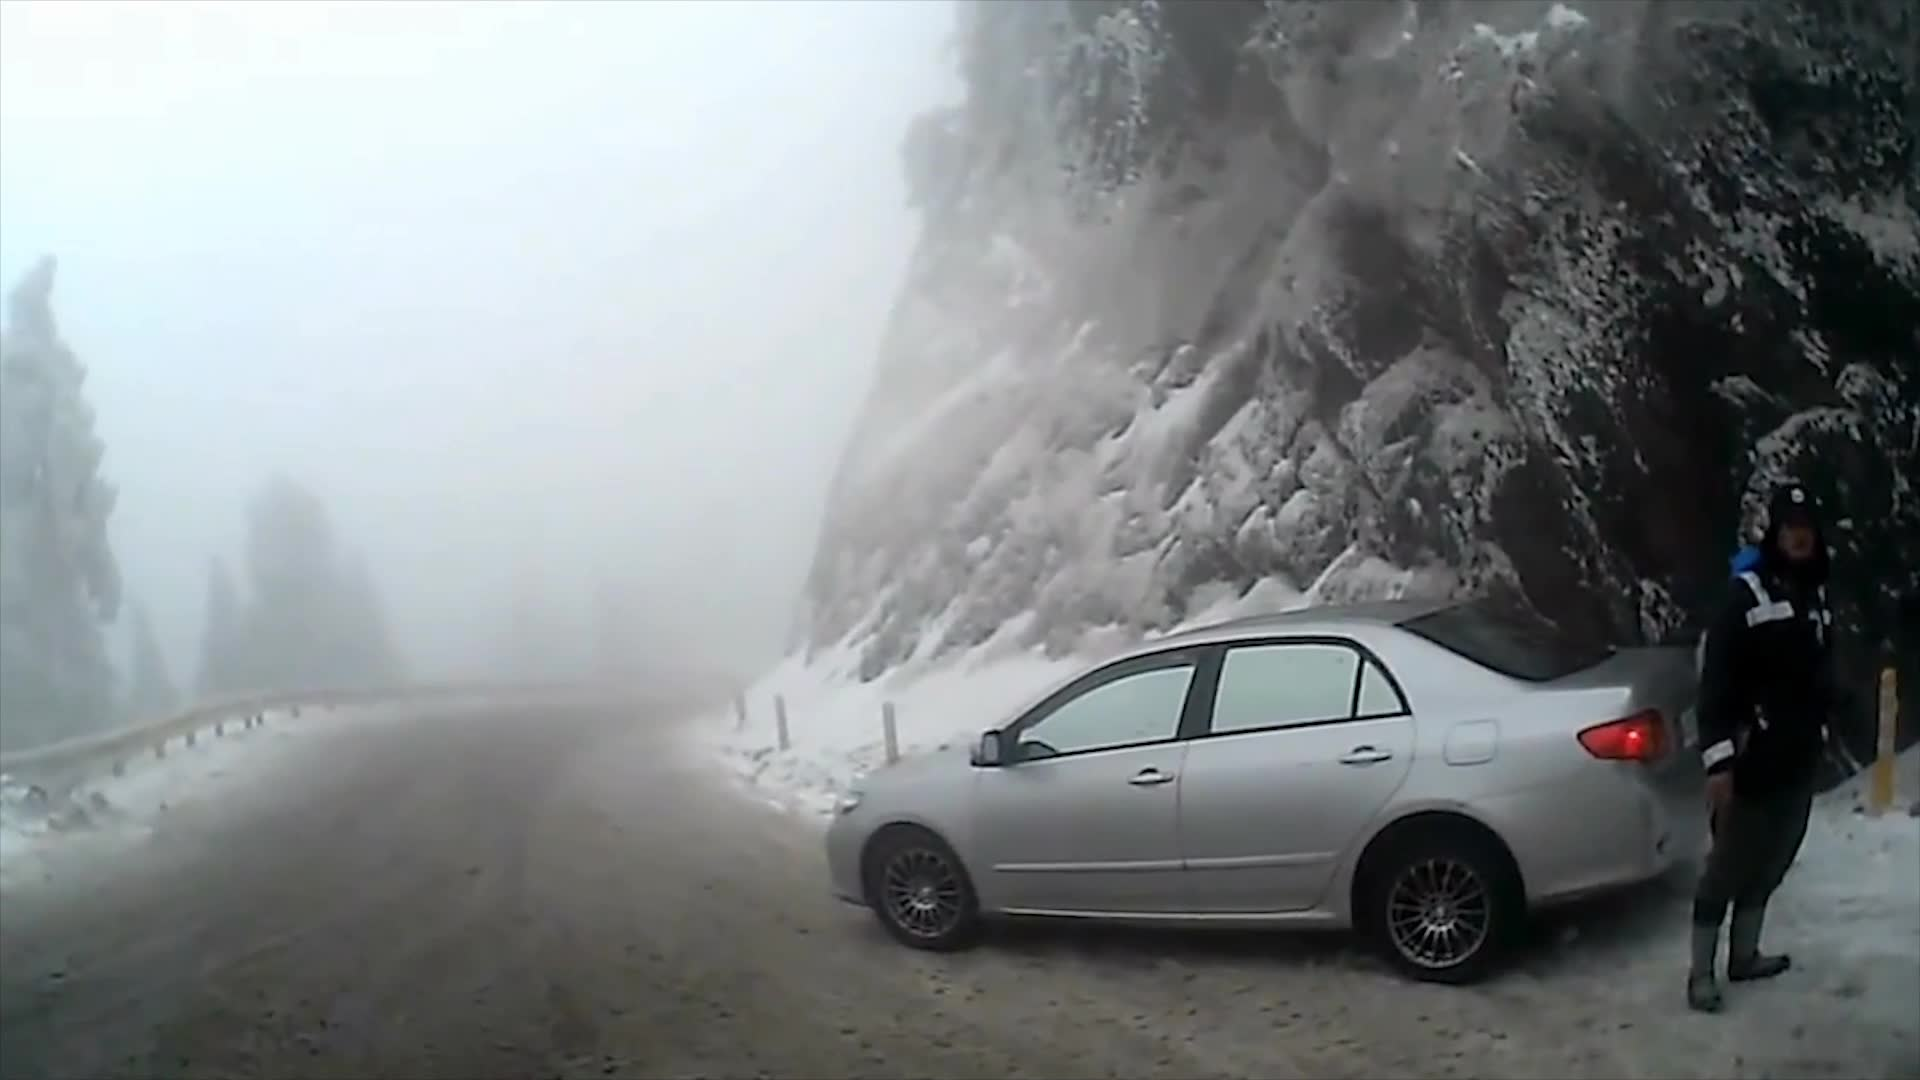pedestrian: (1693, 463, 1849, 1006)
vehicle: (828, 594, 1756, 985)
